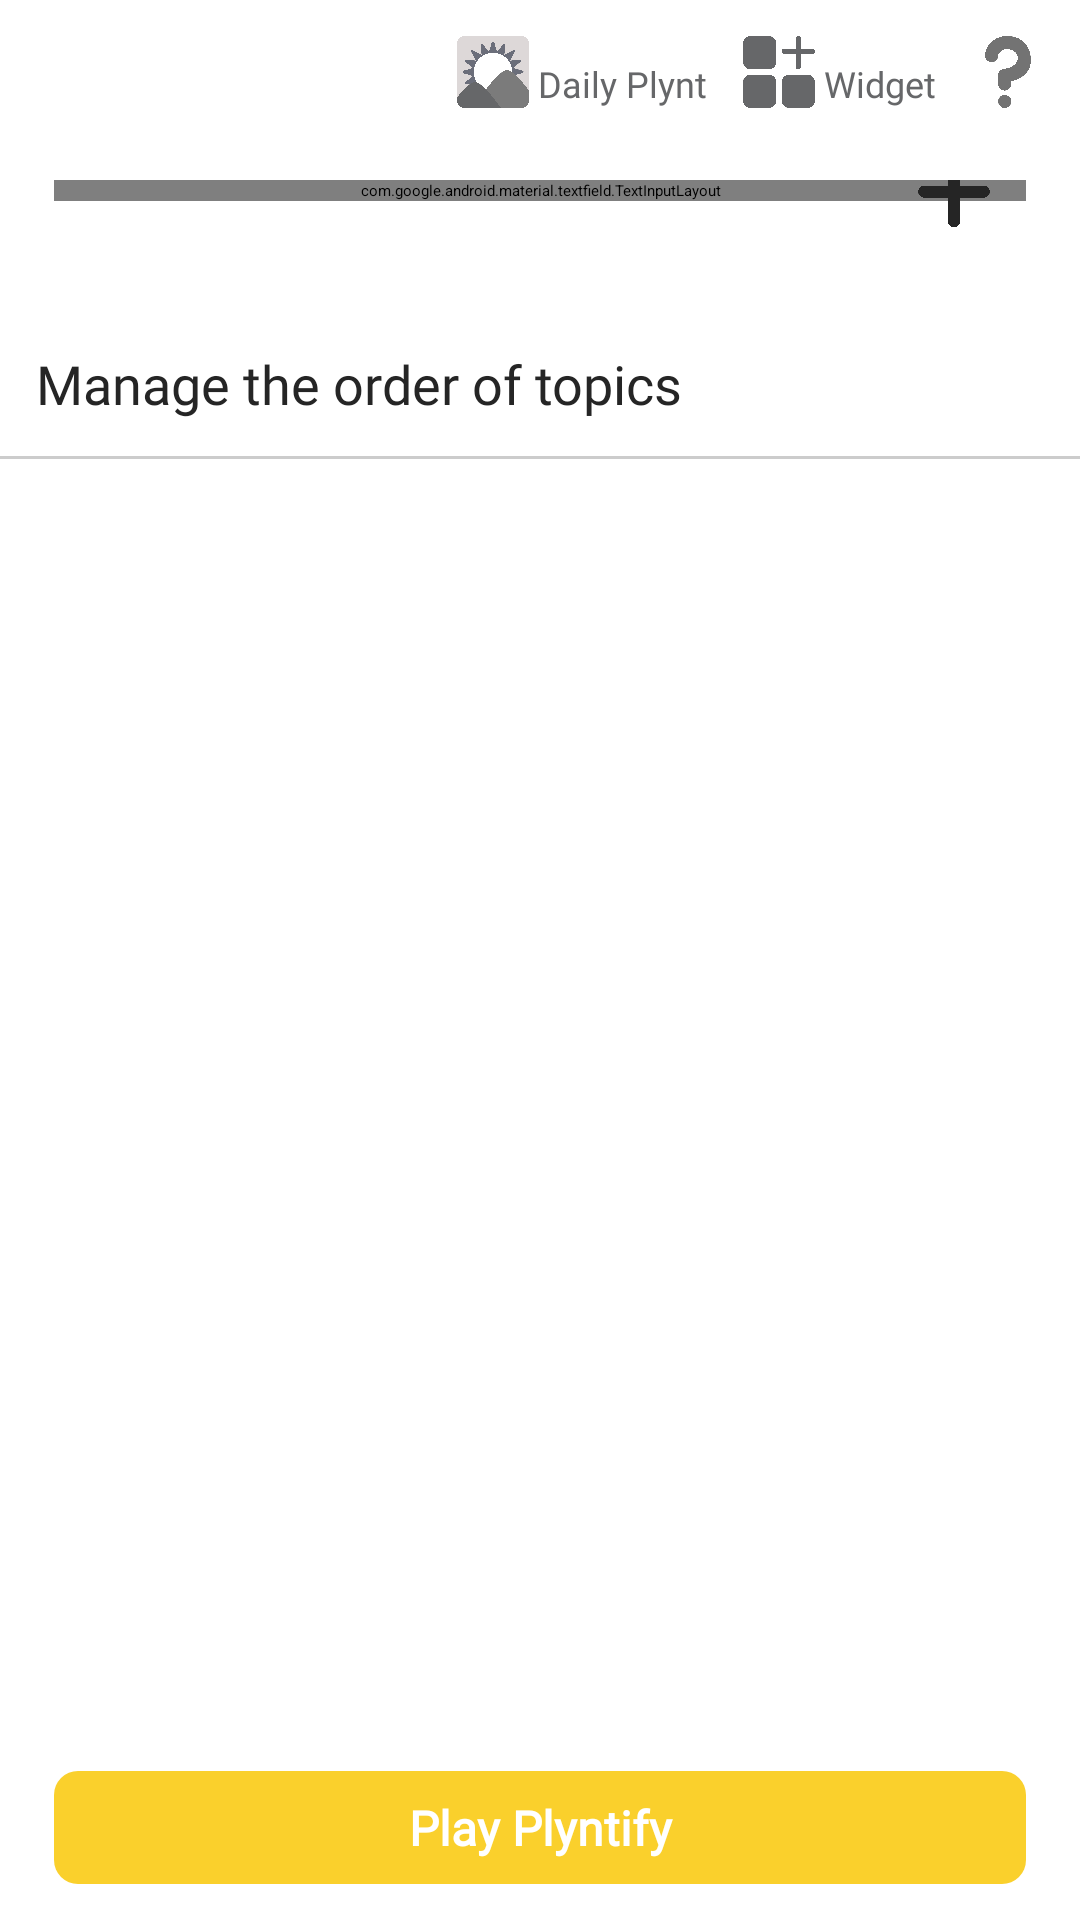

Locate icon controls on the screen. Image size 1080w x 1920h, boxes as (x1,y1,x2,y2).
good morning: (457,36,529,108)
hint: (985,36,1031,108)
